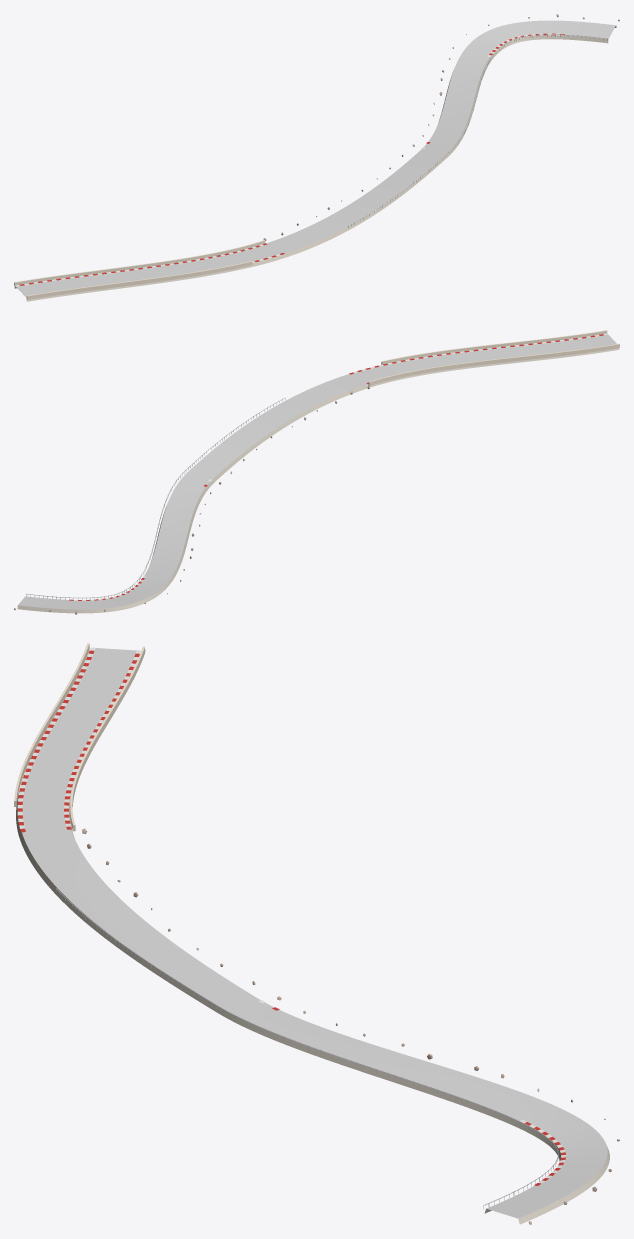
Rendered from SM_AsirMountains_Track_01.fbx.
3 renders of one model, top to bottom at view 1: azimuth 30°, elevation 25°; view 2: azimuth 210°, elevation 25°; view 3: azimuth 270°, elevation 25°, orthographic. The views are drawn at different scales.
Parts seen in each view (by area): view 1: SM_AsirMountains_Track_01; view 2: SM_AsirMountains_Track_01; view 3: SM_AsirMountains_Track_01.
Boxes of the visible parts, left/top/right/bottom form: SM_AsirMountains_Track_01: left=14, top=14, right=619, bottom=301; SM_AsirMountains_Track_01: left=14, top=330, right=619, bottom=614; SM_AsirMountains_Track_01: left=14, top=643, right=619, bottom=1224.
Bounding box in the file's own units: 35601 × 478 × 15775.
